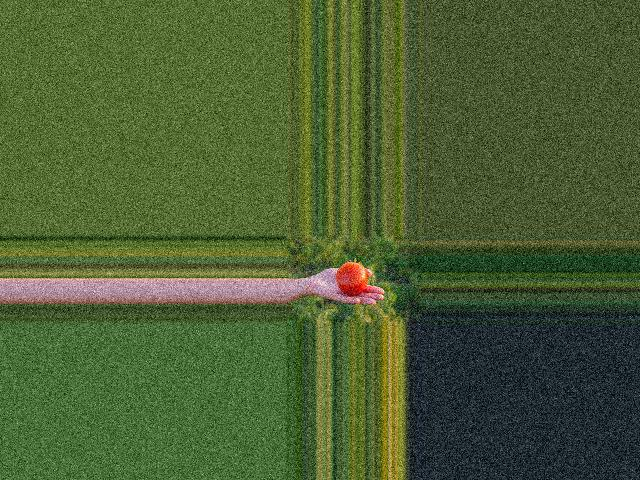tomato: (337, 262, 367, 296)
